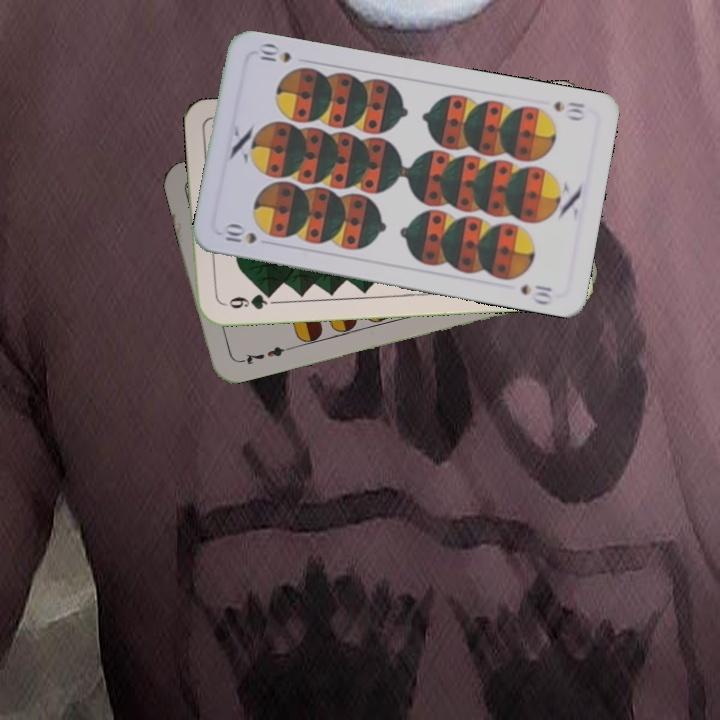E7: (233, 342, 291, 368)
G9: (218, 289, 277, 313)
S10: (219, 221, 260, 246), (550, 97, 588, 123)
